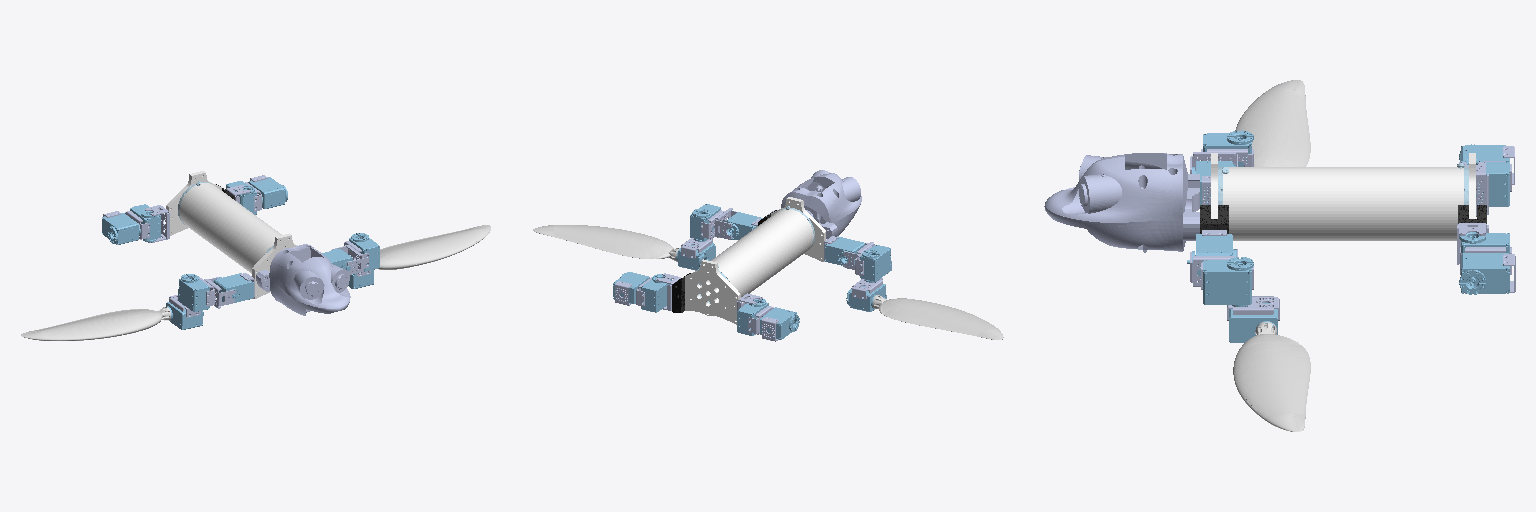
--- Facts derived from the render (not from the file) ---
3 views of the same robot in one strip: view 1: azimuth 30°, elevation 25°; view 2: azimuth 150°, elevation 25°; view 3: azimuth 270°, elevation 25° (orthographic).
Robot: onshape — 12 links, 11 joints (10 revolute, 1 fixed); root link base_link; default pose: every joint at zero.
Links seen in each view (by area): view 1: enclosure_assembly, rigid_flipper, rigid_flipper_2, right_front_link_1, left_front_link_1, right_rear_link_2, left_rear_link_2, right_rear_link_1, right_front_link_2, left_rear_link_1; view 2: enclosure_assembly, rigid_flipper_2, rigid_flipper, right_front_link_1, left_front_link_1, right_rear_link_2, left_rear_link_1, left_front_link_2, right_front_link_2, right_rear_link_1, left_rear_link_2; view 3: enclosure_assembly, rigid_flipper_2, rigid_flipper, left_front_link_1, left_rear_link_2, left_front_link_2, right_front_link_1, right_rear_link_1, left_rear_link_1, right_rear_link_2.
Link boxes in pixels (x1=…): enclosure_assembly: x1=145, y1=171, x2=353, y2=315; rigid_flipper: x1=21, y1=307, x2=170, y2=340; rigid_flipper_2: x1=374, y1=225, x2=490, y2=269; right_front_link_1: x1=178, y1=274, x2=235, y2=311; left_front_link_1: x1=332, y1=233, x2=379, y2=274; right_rear_link_2: x1=102, y1=211, x2=140, y2=244; left_rear_link_2: x1=248, y1=175, x2=287, y2=208; right_rear_link_1: x1=125, y1=204, x2=160, y2=242; right_front_link_2: x1=166, y1=295, x2=203, y2=329; left_rear_link_1: x1=226, y1=181, x2=261, y2=214; enclosure_assembly: x1=656, y1=170, x2=864, y2=324; rigid_flipper_2: x1=533, y1=225, x2=679, y2=261; rigid_flipper: x1=873, y1=295, x2=1003, y2=339; right_front_link_1: x1=843, y1=242, x2=891, y2=282; left_front_link_1: x1=690, y1=204, x2=736, y2=241; right_rear_link_2: x1=760, y1=307, x2=799, y2=341; left_rear_link_1: x1=636, y1=274, x2=671, y2=312; left_front_link_2: x1=676, y1=238, x2=715, y2=270; right_front_link_2: x1=846, y1=278, x2=886, y2=311; right_rear_link_1: x1=737, y1=299, x2=773, y2=335; left_rear_link_2: x1=613, y1=272, x2=649, y2=305; enclosure_assembly: x1=1044, y1=153, x2=1488, y2=278; rigid_flipper_2: x1=1233, y1=322, x2=1310, y2=431; rigid_flipper: x1=1235, y1=80, x2=1310, y2=166; left_front_link_1: x1=1190, y1=249, x2=1253, y2=306; left_rear_link_2: x1=1459, y1=253, x2=1515, y2=294; left_front_link_2: x1=1227, y1=296, x2=1279, y2=342; right_front_link_1: x1=1190, y1=130, x2=1253, y2=173; right_rear_link_1: x1=1461, y1=159, x2=1511, y2=206; left_rear_link_1: x1=1459, y1=232, x2=1511, y2=274; right_rear_link_2: x1=1459, y1=144, x2=1514, y2=184.
Size in the robot's own frame: 0.9755 by 0.5621 by 0.1521 metres.
43 mesh visuals loaded from 15 distinct referenced files (14 binary STL); not drawn: 2 (reference not matched to a file when rendering).

URDF robot description (onshape):
<robot name="onshape">
    <mujoco>
        <compiler discardvisual="false" meshdir="../meshes" balanceinertia="true"/>
        <option gravity="0 0 0"/>
    </mujoco>
    <link name="base_link"></link>
    <joint name="base_link_to_base" type="fixed">
        <parent link="base_link"/>
        <child link="enclosure_assembly"/>
        <origin rpy="0.0 0 0" xyz="0 0 0"/>
    </joint>
    <link name="enclosure_assembly">
        <visual>
            <origin xyz="0.069894823202513028937 0.29480474261514377776 -0.010319492083285954076"
                    rpy="1.5707963267948961139 -1.5707963267948958919 0"/>
            <geometry>
                <mesh filename="meshes/fr13-h105k.stl"/>
            </geometry>
            <material name="fr13-h105k_material">
                <color rgba="0.79607843137254896693 0.82352941176470584317 0.9372549019607843146 1.0"/>
            </material>
        </visual>
        <collision>
            <origin xyz="0.069894823202513028937 0.29480474261514377776 -0.010319492083285954076"
                    rpy="1.5707963267948961139 -1.5707963267948958919 0"/>
            <geometry>
                <mesh filename="meshes/fr13-h105k.stl"/>
            </geometry>
        </collision>
        <visual>
            <origin xyz="0.067894823202512999405 -0.013443357384856361586 -0.010319492083285943668"
                    rpy="1.570796326794896558 1.5707963267948958919 0"/>
            <geometry>
                <mesh filename="meshes/fr13-s105k.stl"/>
            </geometry>
            <material name="fr13-s105k_material">
                <color rgba="0.79607843137254896693 0.82352941176470584317 0.9372549019607843146 1.0"/>
            </material>
        </visual>
        <collision>
            <origin xyz="0.067894823202512999405 -0.013443357384856361586 -0.010319492083285943668"
                    rpy="1.570796326794896558 1.5707963267948958919 0"/>
            <geometry>
                <mesh filename="meshes/fr13-s105k.stl"/>
            </geometry>
        </collision>
        <visual>
            <origin xyz="1.2457089914179381487e-17 0.01724124261514363432 0.010314957384859463341"
                    rpy="1.57079632679489678 1.4179035300190464606e-17 1.3877787807773342003e-17"/>
            <geometry>
                <mesh filename="meshes/wte3-m-locking-flange-seal-r1-rp.stl"/>
            </geometry>
            <material name="wte3-m-locking-flange-seal-r1-rp_material">
                <color rgba="0.76862745098039220171 0.88627450980392152857 0.95294117647058818044 1.0"/>
            </material>
        </visual>
        <collision>
            <origin xyz="1.2457089914179381487e-17 0.01724124261514363432 0.010314957384859463341"
                    rpy="1.57079632679489678 1.4179035300190464606e-17 1.3877787807773342003e-17"/>
            <geometry>
                <mesh filename="meshes/wte3-m-locking-flange-seal-r1-rp.stl"/>
            </geometry>
        </collision>
        <visual>
            <origin xyz="0.11889482320251303082 -0.013443357384856332096 -0.010319492083285947137"
                    rpy="1.570796326794896558 1.5707963267948958919 0"/>
            <geometry>
                <mesh filename="meshes/xw540.n105.i101.stp.stl"/>
            </geometry>
            <material name="xw540.n105.i101.stp_material">
                <color rgba="0.61568627450980395466 0.81176470588235294379 0.92941176470588238168 1.0"/>
            </material>
        </visual>
        <collision>
            <origin xyz="0.11889482320251303082 -0.013443357384856332096 -0.010319492083285947137"
                    rpy="1.570796326794896558 1.5707963267948958919 0"/>
            <geometry>
                <mesh filename="meshes/xw540.n105.i101.stp.stl"/>
            </geometry>
        </collision>
        <visual>
            <origin xyz="-0.11889482320353667033 -0.013570357384856356758 -0.010319492083285941933"
                    rpy="1.570796326794896558 -1.570796326794896336 0"/>
            <geometry>
                <mesh filename="meshes/xw540.n105.i101.stp.stl"/>
            </geometry>
            <material name="xw540.n105.i101.stp_material">
                <color rgba="0.61568627450980395466 0.81176470588235294379 0.92941176470588238168 1.0"/>
            </material>
        </visual>
        <collision>
            <origin xyz="-0.11889482320353667033 -0.013570357384856356758 -0.010319492083285941933"
                    rpy="1.570796326794896558 -1.570796326794896336 0"/>
            <geometry>
                <mesh filename="meshes/xw540.n105.i101.stp.stl"/>
            </geometry>
        </collision>
        <visual>
            <origin xyz="2.7209355507438652099e-17 0.14024124261514361867 0.010314957384859489362"
                    rpy="1.57079632679489678 1.4179035300190464606e-17 1.3877787807773342003e-17"/>
            <geometry>
                <mesh filename="meshes/tube.stl"/>
            </geometry>
            <material name="tube_material">
                <color rgba="1 1 1 1.0"/>
            </material>
        </visual>
        <collision>
            <origin xyz="2.7209355507438652099e-17 0.14024124261514361867 0.010314957384859489362"
                    rpy="1.57079632679489678 1.4179035300190464606e-17 1.3877787807773342003e-17"/>
            <geometry>
                <mesh filename="meshes/tube.stl"/>
            </geometry>
        </collision>
        <visual>
            <origin xyz="-0.069894823203536474154 0.29467774261514367851 -0.010319492083285877748"
                    rpy="-1.570796326794896558 -1.570796326794896336 0"/>
            <geometry>
                <mesh filename="meshes/fr13-h105k.stl"/>
            </geometry>
            <material name="fr13-h105k_material">
                <color rgba="0.79607843137254896693 0.82352941176470584317 0.9372549019607843146 1.0"/>
            </material>
        </visual>
        <collision>
            <origin xyz="-0.069894823203536474154 0.29467774261514367851 -0.010319492083285877748"
                    rpy="-1.570796326794896558 -1.570796326794896336 0"/>
            <geometry>
                <mesh filename="meshes/fr13-h105k.stl"/>
            </geometry>
        </collision>
        <visual>
            <origin xyz="2.5502387607082533746e-17 0.26324124261514358913 0.010314957384859510178"
                    rpy="1.570796326794896336 -1.4179035300190464606e-17 -3.141592653589793116"/>
            <geometry>
                <mesh filename="meshes/wte3-m-locking-flange-seal-r1-rp.stl"/>
            </geometry>
            <material name="wte3-m-locking-flange-seal-r1-rp_material">
                <color rgba="0.76862745098039220171 0.88627450980392152857 0.95294117647058818044 1.0"/>
            </material>
        </visual>
        <collision>
            <origin xyz="2.5502387607082533746e-17 0.26324124261514358913 0.010314957384859510178"
                    rpy="1.570796326794896336 -1.4179035300190464606e-17 -3.141592653589793116"/>
            <geometry>
                <mesh filename="meshes/wte3-m-locking-flange-seal-r1-rp.stl"/>
            </geometry>
        </collision>
        <visual>
            <origin xyz="-0.067894823203536500134 -0.013570357384856356758 -0.010319492083285945402"
                    rpy="1.570796326794896558 -1.570796326794896336 0"/>
            <geometry>
                <mesh filename="meshes/fr13-s105k.stl"/>
            </geometry>
            <material name="fr13-s105k_material">
                <color rgba="0.79607843137254896693 0.82352941176470584317 0.9372549019607843146 1.0"/>
            </material>
        </visual>
        <collision>
            <origin xyz="-0.067894823203536500134 -0.013570357384856356758 -0.010319492083285945402"
                    rpy="1.570796326794896558 -1.570796326794896336 0"/>
            <geometry>
                <mesh filename="meshes/fr13-s105k.stl"/>
            </geometry>
        </collision>
        <visual>
            <origin xyz="-0.047933312144871995097 -0.009070357384856356231 -0.038456398802568438067"
                    rpy="1.57079632679489678 1.4179035300190461525e-17 1.3877787807773337381e-17"/>
            <geometry>
                <mesh filename="meshes/shoulder_adapter.stl"/>
            </geometry>
            <material name="shoulder_adapter_material">
                <color rgba="0.25098039215686274161 0.25098039215686274161 0.25098039215686274161 1.0"/>
            </material>
        </visual>
        <collision>
            <origin xyz="-0.047933312144871995097 -0.009070357384856356231 -0.038456398802568438067"
                    rpy="1.57079632679489678 1.4179035300190461525e-17 1.3877787807773337381e-17"/>
            <geometry>
                <mesh filename="meshes/shoulder_adapter.stl"/>
            </geometry>
        </collision>
        <visual>
            <origin xyz="-0.047933312144871995097 -0.0090068573848563360934 -0.038456398802568445006"
                    rpy="1.5707963267948972241 1.4179035300190467688e-17 -5.9793562302346936973e-17"/>
            <geometry>
                <mesh filename="meshes/shoulder_adapter.stl"/>
            </geometry>
            <material name="shoulder_adapter_material">
                <color rgba="0.10980392156862744946 0.10980392156862744946 0.10980392156862744946 1.0"/>
            </material>
        </visual>
        <collision>
            <origin xyz="-0.047933312144871995097 -0.0090068573848563360934 -0.038456398802568445006"
                    rpy="1.5707963267948972241 1.4179035300190467688e-17 -5.9793562302346936973e-17"/>
            <geometry>
                <mesh filename="meshes/shoulder_adapter.stl"/>
            </geometry>
        </collision>
        <visual>
            <origin xyz="-0.047933312144871988159 -0.0090068573848563551754 -0.038456398802568438067"
                    rpy="1.57079632679489678 1.4179035300190464606e-17 1.3877787807773342003e-17"/>
            <geometry>
                <mesh filename="meshes/enclosure_plate.stl"/>
            </geometry>
            <material name="enclosure_plate_material">
                <color rgba="1 1 1 1.0"/>
            </material>
        </visual>
        <collision>
            <origin xyz="-0.047933312144871988159 -0.0090068573848563551754 -0.038456398802568438067"
                    rpy="1.57079632679489678 1.4179035300190464606e-17 1.3877787807773342003e-17"/>
            <geometry>
                <mesh filename="meshes/enclosure_plate.stl"/>
            </geometry>
        </collision>
        <visual>
            <origin xyz="2.9384240013913407991e-16 -0.0406033573848563617 0.010314957384859442524"
                    rpy="1.57079632679489678 1.4179035300190464606e-17 1.3877787807773340462e-17"/>
            <geometry>
                <mesh filename="meshes/head_bottom.stl"/>
            </geometry>
            <material name="head_bottom_material">
                <color rgba="0.79607843137254896693 0.82352941176470584317 0.9372549019607843146 1.0"/>
            </material>
        </visual>
        <collision>
            <origin xyz="2.9384240013913407991e-16 -0.0406033573848563617 0.010314957384859442524"
                    rpy="1.57079632679489678 1.4179035300190464606e-17 1.3877787807773340462e-17"/>
            <geometry>
                <mesh filename="meshes/head_bottom.stl"/>
            </geometry>
        </collision>
        <visual>
            <origin xyz="2.9384240013913407991e-16 -0.040603357384856375578 0.010314957384859439055"
                    rpy="1.57079632679489678 1.4179035300190464606e-17 1.3877787807773340462e-17"/>
            <geometry>
                <mesh filename="meshes/head_top.stl"/>
            </geometry>
            <material name="head_top_material">
                <color rgba="0.79607843137254896693 0.82352941176470584317 0.9372549019607843146 1.0"/>
            </material>
        </visual>
        <collision>
            <origin xyz="2.9384240013913407991e-16 -0.040603357384856375578 0.010314957384859439055"
                    rpy="1.57079632679489678 1.4179035300190464606e-17 1.3877787807773340462e-17"/>
            <geometry>
                <mesh filename="meshes/head_top.stl"/>
            </geometry>
        </collision>
        <visual>
            <origin xyz="-0.04793331214487198122 0.29917774261514373801 -0.038456398802568389494"
                    rpy="1.57079632679489678 1.4179035300190461525e-17 1.3877787807773337381e-17"/>
            <geometry>
                <mesh filename="meshes/shoulder_adapter.stl"/>
            </geometry>
            <material name="shoulder_adapter_material">
                <color rgba="0.25098039215686274161 0.25098039215686274161 0.25098039215686274161 1.0"/>
            </material>
        </visual>
        <collision>
            <origin xyz="-0.04793331214487198122 0.29917774261514373801 -0.038456398802568389494"
                    rpy="1.57079632679489678 1.4179035300190461525e-17 1.3877787807773337381e-17"/>
            <geometry>
                <mesh filename="meshes/shoulder_adapter.stl"/>
            </geometry>
        </collision>
        <visual>
            <origin xyz="-0.04793331214487198122 0.29924124261514373213 -0.038456398802568389494"
                    rpy="1.5707963267948972241 1.4179035300190467688e-17 -5.9793562302346936973e-17"/>
            <geometry>
                <mesh filename="meshes/shoulder_adapter.stl"/>
            </geometry>
            <material name="shoulder_adapter_material">
                <color rgba="0.10980392156862744946 0.10980392156862744946 0.10980392156862744946 1.0"/>
            </material>
        </visual>
        <collision>
            <origin xyz="-0.04793331214487198122 0.29924124261514373213 -0.038456398802568389494"
                    rpy="1.5707963267948972241 1.4179035300190467688e-17 -5.9793562302346936973e-17"/>
            <geometry>
                <mesh filename="meshes/shoulder_adapter.stl"/>
            </geometry>
        </collision>
        <visual>
            <origin xyz="-0.04793331214487198122 0.29924124261514367662 -0.038456398802568375617"
                    rpy="1.57079632679489678 1.4179035300190464606e-17 1.3877787807773342003e-17"/>
            <geometry>
                <mesh filename="meshes/enclosure_plate.stl"/>
            </geometry>
            <material name="enclosure_plate_material">
                <color rgba="1 1 1 1.0"/>
            </material>
        </visual>
        <collision>
            <origin xyz="-0.04793331214487198122 0.29924124261514367662 -0.038456398802568375617"
                    rpy="1.57079632679489678 1.4179035300190464606e-17 1.3877787807773342003e-17"/>
            <geometry>
                <mesh filename="meshes/enclosure_plate.stl"/>
            </geometry>
        </collision>
        <visual>
            <origin xyz="-0.026710281898386943611 -0.1454799077985637068 0.03570296254706342709"
                    rpy="1.3089968257464532631 -1.5707963267948958919 0"/>
            <geometry>
                <mesh filename="meshes/explorehd_2.0_public.step-1-solid1.stl"/>
            </geometry>
            <material name="explorehd_2.0_public.step-1-solid1_material">
                <color rgba="0.79607843137254896693 0.82352941176470584317 0.9372549019607843146 1.0"/>
            </material>
        </visual>
        <collision>
            <origin xyz="-0.026710281898386943611 -0.1454799077985637068 0.03570296254706342709"
                    rpy="1.3089968257464532631 -1.5707963267948958919 0"/>
            <geometry>
                <mesh filename="meshes/explorehd_2.0_public.step-1-solid1.stl"/>
            </geometry>
        </collision>
        <visual>
            <origin xyz="-0.020812504507452943281 -0.14625636526204230381 0.035363957384859458222"
                    rpy="1.570796326794896558 1.5707963267948956698 0"/>
            <geometry>
                <mesh filename="meshes/92467a452_18-8_stainless_steel_extra-wide_truss_head_phillips_screws.step-2-solid1.stl"/>
            </geometry>
            <material
                    name="92467a452_18-8_stainless_steel_extra-wide_truss_head_phillips_screws.step-2-solid1_material">
                <color rgba="0.79607843137254896693 0.82352941176470584317 0.9372549019607843146 1.0"/>
            </material>
        </visual>
        <collision>
            <origin xyz="-0.020812504507452943281 -0.14625636526204230381 0.035363957384859458222"
                    rpy="1.570796326794896558 1.5707963267948956698 0"/>
            <geometry>
                <mesh filename="meshes/92467a452_18-8_stainless_steel_extra-wide_truss_head_phillips_screws.step-2-solid1.stl"/>
            </geometry>
        </collision>
        <visual>
            <origin xyz="-0.026710281898386943611 -0.14547990779856351251 0.035702962547063656074"
                    rpy="1.3089968257464532631 -1.5707963267948956698 0"/>
            <geometry>
                <mesh filename="meshes/explorehd_2.0_case_public.step-1_standoff_and_washer_v4_(1).step-1-solid1.stl"/>
            </geometry>
            <material name="explorehd_2.0_case_public.step-1/standoff_and_washer_v4_(1).step-1-solid1_material">
                <color rgba="0.79607843137254896693 0.82352941176470584317 0.9372549019607843146 1.0"/>
            </material>
        </visual>
        <collision>
            <origin xyz="-0.026710281898386943611 -0.14547990779856351251 0.035702962547063656074"
                    rpy="1.3089968257464532631 -1.5707963267948956698 0"/>
            <geometry>
                <mesh filename="meshes/explorehd_2.0_case_public.step-1_standoff_and_washer_v4_(1).step-1-solid1.stl"/>
            </geometry>
        </collision>
        <visual>
            <origin xyz="0.020914727116519558903 -0.14703282272552137266 0.035702962547063461785"
                    rpy="1.832595827843340075 -1.5707963267948958919 0"/>
            <geometry>
                <mesh filename="meshes/explorehd_2.0_public.step-1-solid1.stl"/>
            </geometry>
            <material name="explorehd_2.0_public.step-1-solid1_material">
                <color rgba="0.79607843137254896693 0.82352941176470584317 0.9372549019607843146 1.0"/>
            </material>
        </visual>
        <collision>
            <origin xyz="0.020914727116519558903 -0.14703282272552137266 0.035702962547063461785"
                    rpy="1.832595827843340075 -1.5707963267948958919 0"/>
            <geometry>
                <mesh filename="meshes/explorehd_2.0_public.step-1-solid1.stl"/>
            </geometry>
        </collision>
        <visual>
            <origin xyz="0.026812504507453642499 -0.14625636526204230381 0.035363957384859458222"
                    rpy="1.570796326794896558 1.5707963267948956698 0"/>
            <geometry>
                <mesh filename="meshes/92467a452_18-8_stainless_steel_extra-wide_truss_head_phillips_screws.step-2-solid1.stl"/>
            </geometry>
            <material
                    name="92467a452_18-8_stainless_steel_extra-wide_truss_head_phillips_screws.step-2-solid1_material">
                <color rgba="0.79607843137254896693 0.82352941176470584317 0.9372549019607843146 1.0"/>
            </material>
        </visual>
        <collision>
            <origin xyz="0.026812504507453642499 -0.14625636526204230381 0.035363957384859458222"
                    rpy="1.570796326794896558 1.5707963267948956698 0"/>
            <geometry>
                <mesh filename="meshes/92467a452_18-8_stainless_steel_extra-wide_truss_head_phillips_screws.step-2-solid1.stl"/>
            </geometry>
        </collision>
        <visual>
            <origin xyz="0.020914727116519503392 -0.14703282272552120613 0.03570296254706367689"
                    rpy="1.832595827843340075 -1.5707963267948956698 0"/>
            <geometry>
                <mesh filename="meshes/explorehd_2.0_case_public.step-1_standoff_and_washer_v4_(1).step-1-solid1.stl"/>
            </geometry>
            <material name="explorehd_2.0_case_public.step-1/standoff_and_washer_v4_(1).step-1-solid1_material">
                <color rgba="0.79607843137254896693 0.82352941176470584317 0.9372549019607843146 1.0"/>
            </material>
        </visual>
        <collision>
            <origin xyz="0.020914727116519503392 -0.14703282272552120613 0.03570296254706367689"
                    rpy="1.832595827843340075 -1.5707963267948956698 0"/>
            <geometry>
                <mesh filename="meshes/explorehd_2.0_case_public.step-1_standoff_and_washer_v4_(1).step-1-solid1.stl"/>
            </geometry>
        </collision>
        <inertial>
            <origin xyz="4.1435743363322676173e-07 0.084475575081515694165 0.0069731387364608873186" rpy="0 0 0"/>
            <mass value="2.9553047122120741363"/>
            <inertia ixx="0.061042834427142159126" ixy="-2.0694784858406268732e-06" ixz="-3.5724982403397454074e-08"
                     iyy="0.0094178638007044821606" iyz="0.00016294589614341051503" izz="0.066158015901618807963"/>
        </inertial>
    </link>

    <link name="right_front_link_1">
        <visual>
            <origin xyz="0.032000000000000097811 -2.2551405187698492227e-17 0.042000000000000030365"
                    rpy="1.570796326794896558 1.570796326794896336 0"/>
            <geometry>
                <mesh filename="meshes/fr13-s106k.stl"/>
            </geometry>
            <material name="fr13-s106k_material">
                <color rgba="0.79607843137254896693 0.82352941176470584317 0.9372549019607843146 1.0"/>
            </material>
        </visual>
        <collision>
            <origin xyz="0.032000000000000097811 -2.2551405187698492227e-17 0.042000000000000030365"
                    rpy="1.570796326794896558 1.570796326794896336 0"/>
            <geometry>
                <mesh filename="meshes/fr13-s106k.stl"/>
            </geometry>
        </collision>
        <visual>
            <origin xyz="0.029999999999999985012 -3.4694469519536141888e-18 0.026499999999999995781"
                    rpy="-1.570796326794896558 -1.570796326794896558 0"/>
            <geometry>
                <mesh filename="meshes/fr13-h105k.stl"/>
            </geometry>
            <material name="fr13-h105k_material">
                <color rgba="0.79607843137254896693 0.82352941176470584317 0.9372549019607843146 1.0"/>
            </material>
        </visual>
        <collision>
            <origin xyz="0.029999999999999985012 -3.4694469519536141888e-18 0.026499999999999995781"
                    rpy="-1.570796326794896558 -1.570796326794896558 0"/>
            <geometry>
                <mesh filename="meshes/fr13-h105k.stl"/>
            </geometry>
        </collision>
        <visual>
            <origin xyz="0.058000000000000037637 8.6736173798840354721e-18 0.057500000000000106581"
                    rpy="1.570796326794896336 -2.693587736804898666e-24 -4.2327252813834127616e-16"/>
            <geometry>
                <mesh filename="meshes/xw540.n105.i101.stp.stl"/>
            </geometry>
            <material name="xw540.n105.i101.stp_material">
                <color rgba="0.61568627450980395466 0.81176470588235294379 0.92941176470588238168 1.0"/>
            </material>
        </visual>
        <collision>
            <origin xyz="0.058000000000000037637 8.6736173798840354721e-18 0.057500000000000106581"
                    rpy="1.570796326794896336 -2.693587736804898666e-24 -4.2327252813834127616e-16"/>
            <geometry>
                <mesh filename="meshes/xw540.n105.i101.stp.stl"/>
            </geometry>
        </collision>
        <inertial>
            <origin xyz="0.053506049593864790648 -0.00012798970313840241238 0.041309178718401860786" rpy="0 0 0"/>
            <mass value="0.23765309404962933759"/>
            <inertia ixx="0.0001197601833361052815" ixy="1.3669315868615371237e-07" ixz="-9.1950112817160069046e-06"
                     iyy="0.00012572203867313119872" iyz="4.9175977519764273247e-07" izz="8.8732448708732337365e-05"/>
        </inertial>
    </link>

    <link name="right_front_link_2">
        <visual>
            <origin xyz="-0.01549999999999999295 2.7755575615628913511e-17 0"
                    rpy="-1.570796326794896558 -0 -2.3111159332646830237e-32"/>
            <geometry>
                <mesh filename="meshes/fr13-s106k.stl"/>
            </geometry>
            <material name="fr13-s106k_material">
                <color rgba="0.79607843137254896693 0.82352941176470584317 0.9372549019607843146 1.0"/>
            </material>
        </visual>
        <collision>
            <origin xyz="-0.01549999999999999295 2.7755575615628913511e-17 0"
                    rpy="-1.570796326794896558 -0 -2.3111159332646830237e-32"/>
            <geometry>
                <mesh filename="meshes/fr13-s106k.stl"/>
            </geometry>
        </collision>
        <visual>
            <origin xyz="-0.031000000000000096922 -2.7755575615628913511e-17 -0.025999999999999863498"
                    rpy="1.570796326794896558 -1.570796326794896558 0"/>
            <geometry>
                <mesh filename="meshes/xw540.n105.i101.stp.stl"/>
            </geometry>
            <material name="xw540.n105.i101.stp_material">
                <color rgba="0.61568627450980395466 0.81176470588235294379 0.92941176470588238168 1.0"/>
            </material>
        </visual>
        <collision>
            <origin xyz="-0.031000000000000096922 -2.7755575615628913511e-17 -0.025999999999999863498"
                    rpy="1.570796326794896558 -1.570796326794896558 0"/>
            <geometry>
                <mesh filename="meshes/xw540.n105.i101.stp.stl"/>
            </geometry>
        </collision>
        <inertial>
            <origin xyz="-0.016101673005059574662 -0.00013995662800101392985 -0.024253576994100387726" rpy="0 0 0"/>
            <mass value="0.21733267935778124991"/>
            <inertia ixx="6.4918636413437510622e-05" ixy="-4.4909670188136649e-07" ixz="-2.2836787309400386181e-07"
                     iyy="9.1336723727688314423e-05" iyz="-5.3121208937074928327e-08" izz="0.00010342610076693713466"/>
        </inertial>
    </link>

    <link name="rigid_flipper">
        <visual>
            <origin xyz="-0.0055304483284662822595 -4.8572257327350598644e-16 -0.057140122083317562707"
                    rpy="-1.570796326794896558 -0.087266462599716904114 -4.3533745945941733344e-19"/>
            <geometry>
                <mesh filename="meshes/front_flipper_straight.stl"/>
            </geometry>
            <material name="rigid_flipper_material">
                <color rgba="0.90196078431372550543 0.90196078431372550543 0.90196078431372550543 1.0"/>
            </material>
        </visual>
        <collision>
            <origin xyz="-0.0055304483284662822595 -4.8572257327350598644e-16 -0.057140122083317562707"
                    rpy="-1.570796326794896558 -0.087266462599716904114 -4.3533745945941733344e-19"/>
            <geometry>
                <mesh filename="meshes/front_flipper_straight.stl"/>
            </geometry>
        </collision>
        <inertial>
            <origin xyz="-0.0044251698858467575573 9.8208499228312341029e-05 -0.12751828658569058783" rpy="0 0 0"/>
            <mass value="0.45000000037898496563"/>
            <inertia ixx="0.0017657185749879033155" ixy="3.8778617118469599469e-09" ixz="-0.00012015546573640090611"
                     iyy="0.0019141236431911706761" iyz="9.5853134441607854423e-08" izz="0.00017460332900431278867"/>
        </inertial>
    </link>

    <joint name="shoulderR3" type="revolute">
        <origin xyz="-0.031000000000000096922 -0.02649999999999994027 -0.02599999999999984962"
                rpy="-1.570796326794896336 3.3168147817035548656e-16 -1.7063002176520613192e-15"/>
        <parent link="right_front_link_2"/>
        <child link="rigid_flipper"/>
        <axis xyz="0 0 1"/>
        <limit effort="1" velocity="20"/>
        <joint_properties friction="0.0"/>
    </joint>

    <joint name="shoulderR2" type="revolute">
        <origin xyz="0.058000000000000009881 -0.026499999999999968026 0.057500000000000092704"
                rpy="-1.570796326794896336 1.5707963267948961139 0"/>
        <parent link="right_front_link_1"/>
        <child link="right_front_link_2"/>
        <axis xyz="0 0 1"/>
        <limit effort="1" velocity="20"/>
        <joint_properties friction="0.0"/>
    </joint>

    <joint name="shoulderR1" type="revolute">
        <origin xyz="-0.11889482320353668421 -0.040070357384856446215 -0.010319492083285957545"
                rpy="1.570796326794896558 -0.024747819362712419888 -3.141592653589793116"/>
        <parent link="enclosure_assembly"/>
        <child link="right_front_link_1"/>
        <axis xyz="0 0 1"/>
        <limit effort="1" velocity="20"/>
        <joint_properties friction="0.0"/>
    </joint>

    <link name="left_front_link_1">
        <visual>
            <origin xyz="0.058000000000000551115 1.2143064331837649661e-17 -0.0045000000000001948164"
                    rpy="-1.570796326794896558 5.5511151231098433977e-17 3.141592653589793116"/>
            <geometry>
                <mesh filename="meshes/xw540.n105.i101.stp.stl"/>
            </geometry>
            <material name="xw540.n105.i101.stp_material">
                <color rgba="0.61568627450980395466 0.81176470588235294379 0.92941176470588238168 1.0"/>
            </material>
        </visual>
        <collision>
            <origin xyz="0.058000000000000551115 1.2143064331837649661e-17 -0.0045000000000001948164"
                    rpy="-1.570796326794896558 5.5511151231098433977e-17 3.141592653589793116"/>
            <geometry>
                <mesh filename="meshes/xw540.n105.i101.stp.stl"/>
            </geometry>
        </collision>
        <visual>
            <origin xyz="0.032000000000000028422 2.7755575615628913511e-17 0.010999999999999903952"
                    rpy="1.570796326794896558 1.570796326794896558 0"/>
            <geometry>
                <mesh filename="meshes/fr13-s106k.stl"/>
            </geometry>
            <material name="fr13-s106k_material">
                <color rgba="0.79607843137254896693 0.82352941176470584317 0.9372549019607843146 1.0"/>
            </material>
        </visual>
        <collision>
            <origin xyz="0.032000000000000028422 2.7755575615628913511e-17 0.010999999999999903952"
                    rpy="1.570796326794896558 1.570796326794896558 0"/>
            <geometry>
                <mesh filename="meshes/fr13-s106k.stl"/>
            </geometry>
        </collision>
        <visual>
            <origin xyz="0.02999999999999999889 0 0.02650000000000000272"
                    rpy="1.570796326794896558 1.570796326794896558 0"/>
            <geometry>
                <mesh filename="meshes/fr13-h105k.stl"/>
            </geometry>
            <material name="fr13-h105k_material">
                <color rgba="0.79607843137254896693 0.82352941176470584317 0.9372549019607843146 1.0"/>
            </material>
        </visual>
        <collision>
            <origin xyz="0.02999999999999999889 0 0.02650000000000000272"
                    rpy="1.570796326794896558 1.570796326794896558 0"/>
            <geometry>
                <mesh filename="meshes/fr13-h105k.stl"/>
            </geometry>
        </collision>
        <inertial>
            <origin xyz="0.053506049593750534821 -0.00012798970313839455192 0.011690821281598155063" rpy="0 0 0"/>
            <mass value="0.23765309404962933759"/>
            <inertia ixx="0.00011976018333610899489" ixy="1.3669315913792217586e-07" ixz="9.1950112843162184816e-06"
                     iyy="0.00012572203867288904216" iyz="-4.8841069312510823856e-07" izz="8.8732448708489150817e-05"/>
        </inertial>
    </link>

    <link name="left_front_link_2">
        <visual>
            <origin xyz="0.031000000000000332845 2.498001805406602216e-16 -0.025999999999999592881"
                    rpy="1.570796326794896558 1.570796326794896558 0"/>
            <geometry>
                <mesh filename="meshes/xw540.n105.i101.stp.stl"/>
            </geometry>
            <material name="xw540.n105.i101.stp_material">
                <color rgba="0.61568627450980395466 0.81176470588235294379 0.92941176470588238168 1.0"/>
            </material>
        </visual>
        <collision>
            <origin xyz="0.031000000000000332845 2.498001805406602216e-16 -0.025999999999999592881"
                    rpy="1.570796326794896558 1.570796326794896558 0"/>
            <geometry>
                <mesh filename="meshes/xw540.n105.i101.stp.stl"/>
            </geometry>
        </collision>
        <visual>
            <origin xyz="0.015499999999999999889 0 0" rpy="-1.570796326794896558 -0 7.6084727776971584431e-34"/>
            <geometry>
                <mesh filename="meshes/fr13-s106k.stl"/>
            </geometry>
            <material name="fr13-s106k_material">
                <color rgba="0.79607843137254896693 0.82352941176470584317 0.9372549019607843146 1.0"/>
            </material>
        </visual>
        <collision>
            <origin xyz="0.015499999999999999889 0 0" rpy="-1.570796326794896558 -0 7.6084727776971584431e-34"/>
            <geometry>
                <mesh filename="meshes/fr13-s106k.stl"/>
            </geometry>
        </collision>
        <inertial>
            <origin xyz="0.016101673005060018751 -0.00013995662800075675709 -0.024253576994225530677" rpy="0 0 0"/>
            <mass value="0.21733267935778124991"/>
            <inertia ixx="6.4918636413530643589e-05" ixy="4.5244578395383825052e-07" ixz="2.2836787045883843784e-07"
                     iyy="9.1336723727779739771e-05" iyz="-5.3121208484951961696e-08" izz="0.00010342610076693278429"/>
        </inertial>
    </link>

    <link name="rigid_flipper_2">
        <visual>
            <origin xyz="-0.0055304483284662891984 -5.1347814888913489995e-16 -0.057140122083317090862"
                    rpy="-1.570796326794896558 -0.087266462599716904114 9.8984278215406751188e-32"/>
            <geometry>
                <mesh filename="meshes/front_flipper_straight.stl"/>
            </geometry>
            <material name="rigid_flipper_material">
                <color rgba="0.90196078431372550543 0.90196078431372550543 0.90196078431372550543 1.0"/>
            </material>
        </visual>
        <collision>
            <origin xyz="-0.0055304483284662891984 -5.1347814888913489995e-16 -0.057140122083317090862"
                    rpy="-1.570796326794896558 -0.087266462599716904114 9.8984278215406751188e-32"/>
            <geometry>
                <mesh filename="meshes/front_flipper_straight.stl"/>
            </geometry>
        </collision>
        <inertial>
            <origin xyz="-0.0044251698858467636288 9.8208499228284097562e-05 -0.12751828658569011599" rpy="0 0 0"/>
            <mass value="0.45000000037898496563"/>
            <inertia ixx="0.0017657185749879033155" ixy="3.877861711845820092e-09" ixz="-0.00012015546573640090611"
                     iyy="0.0019141236431911706761" iyz="9.5853134441615623303e-08" izz="0.00017460332900431278867"/>
        </inertial>
    </link>

    <joint name="shoulderL3" type="revolute">
        <origin xyz="0.031000000000000346723 -0.02649999999999899658 -0.025999999999999592881"
                rpy="1.57079632679489678 -1.1788540152396787534e-27 3.141592653589793116"/>
        <parent link="left_front_link_2"/>
        <child link="rigid_flipper_2"/>
        <axis xyz="0 0 1"/>
        <limit effort="1" velocity="20"/>
        <joint_properties friction="0.0"/>
    </joint>

    <joint name="shoulderL2" type="revolute">
        <origin xyz="0.058000000000000551115 -0.02650000000000025599 -0.0045000000000001739997"
                rpy="-1.570796326794896558 1.570796326794896558 0"/>
        <parent link="left_front_link_1"/>
        <child link="left_front_link_2"/>
        <axis xyz="0 0 1"/>
        <limit effort="1" velocity="20"/>
        <joint_properties friction="0.0"/>
    </joint>

    <joint name="shoulderL1" type="revolute">
        <origin xyz="0.1188948232025135443 0.012956642615143504696 -0.010319492083285928055"
                rpy="1.5707963267948972241 2.0061271302034394322e-16 1.3877787807767273012e-17"/>
        <parent link="enclosure_assembly"/>
        <child link="left_front_link_1"/>
        <axis xyz="0 0 1"/>
        <limit effort="1" velocity="20"/>
        <joint_properties friction="0.0"/>
    </joint>

    <link name="right_rear_link_1">
        <visual>
            <origin xyz="0 0 -0.026399999999999999856" rpy="3.141592653589793116 -0 -5.21020655579469012e-33"/>
            <geometry>
                <mesh filename="meshes/xw540.n105.i101.stp.stl"/>
            </geometry>
            <material name="xw540.n105.i101.stp_material">
                <color rgba="0.61568627450980395466 0.81176470588235294379 0.92941176470588238168 1.0"/>
            </material>
        </visual>
        <collision>
            <origin xyz="0 0 -0.026399999999999999856" rpy="3.141592653589793116 -0 -5.21020655579469012e-33"/>
            <geometry>
                <mesh filename="meshes/xw540.n105.i101.stp.stl"/>
            </geometry>
        </collision>
        <visual>
            <origin xyz="-0.026000000000000314526 0.015500000000000457856 -0.026400000000000124756"
                    rpy="-3.141592653589793116 1.2325951644078103644e-31 1.570796326794896336"/>
            <geometry>
                <mesh filename="meshes/fr13-s106k.stl"/>
            </geometry>
            <material name="fr13-s106k_material">
                <color rgba="0.79607843137254896693 0.82352941176470584317 0.9372549019607843146 1.0"/>
            </material>
        </visual>
        <collision>
            <origin xyz="-0.026000000000000314526 0.015500000000000457856 -0.026400000000000124756"
                    rpy="-3.141592653589793116 1.2325951644078103644e-31 1.570796326794896336"/>
            <geometry>
                <mesh filename="meshes/fr13-s106k.stl"/>
            </geometry>
        </collision>
        <inertial>
            <origin xyz="-0.0017464230057741114265 0.014898326994940661039 -0.026539956628001001859" rpy="0 0 0"/>
            <mass value="0.21733267935778124991"/>
            <inertia ixx="0.00010342610076694004845" ixy="2.2836787045875344337e-07" ixz="5.3121208484983930573e-08"
                     iyy="6.4918636413533896195e-05" iyz="-4.5244578395387964926e-07" izz="9.1336723727784578024e-05"/>
        </inertial>
    </link>

    <link name="right_rear_link_2">
        <visual>
            <origin xyz="-1.7347234759768070944e-18 -5.5511151231257827021e-17 -0.026499999999999995781"
                    rpy="6.162975822039116413e-33 -0 0"/>
            <geometry>
                <mesh filename="meshes/xw540.n105.i101.stp.stl"/>
            </geometry>
            <material name="xw540.n105.i101.stp_material">
                <color rgba="0.61568627450980395466 0.81176470588235294379 0.92941176470588238168 1.0"/>
            </material>
        </visual>
        <collision>
            <origin xyz="-1.7347234759768070944e-18 -5.5511151231257827021e-17 -0.026499999999999995781"
                    rpy="6.162975822039116413e-33 -0 0"/>
            <geometry>
                <mesh filename="meshes/xw540.n105.i101.stp.stl"/>
            </geometry>
        </collision>
        <visual>
            <origin xyz="-3.8163916471489756077e-17 -0.076078609753962300744 -0.029918400788916443833"
                    rpy="-2.6950666385799572288e-16 -0.70607843085865351629 1.570796326794896558"/>
            <geometry>
                <mesh filename="meshes/rear_flipper.stl"/>
            </geometry>
            <material name="rear_flipper_material">
                <color rgba="0.76862745098039220171 0.88627450980392152857 0.95294117647058818044 1.0"/>
            </material>
        </visual>
        <collision>
            <origin xyz="-3.8163916471489756077e-17 -0.076078609753962300744 -0.029918400788916443833"
                    rpy="-2.6950666385799572288e-16 -0.70607843085865351629 1.570796326794896558"/>
            <geometry>
                <mesh filename="meshes/rear_flipper.stl"/>
            </geometry>
        </collision>
        <visual>
            <origin xyz="-1.7347234759768070944e-18 -0.051000000000000045297 -0.026499999999999995781"
                    rpy="1.6653345369377355502e-16 -0 0"/>
            <geometry>
                <mesh filename="meshes/fr13-s105k.stl"/>
            </geometry>
            <material name="fr13-s105k_material">
                <color rgba="0.79607843137254896693 0.82352941176470584317 0.9372549019607843146 1.0"/>
            </material>
        </visual>
        <collision>
            <origin xyz="-1.7347234759768070944e-18 -0.051000000000000045297 -0.026499999999999995781"
                    rpy="1.6653345369377355502e-16 -0 0"/>
            <geometry>
                <mesh filename="meshes/fr13-s105k.stl"/>
            </geometry>
        </collision>
        <inertial>
            <origin xyz="-1.4543076731165039624e-07 -0.058528945898489018185 -0.022109379305518803149" rpy="0 0 0"/>
            <mass value="0.37872549359169516148"/>
            <inertia ixx="0.0011478951582088120584" ixy="-5.3727660966578406811e-09" ixz="-1.9957224760609825652e-09"
                     iyy="0.00012584810123618598416" iyz="8.3859902421649571e-05" izz="0.0010750923540025912779"/>
        </inertial>
    </link>

    <joint name="hipR2" type="revolute">
        <origin xyz="-0.026000000000000314526 2.2204460492503130808e-16 -0.026400000000000124756"
                rpy="-3.141592653589793116 -1.570796326794896558 0"/>
        <parent link="right_rear_link_1"/>
        <child link="right_rear_link_2"/>
        <axis xyz="0 0 1"/>
        <limit effort="1" velocity="20"/>
        <joint_properties friction="0.0"/>
    </joint>

    <joint name="hipR1" type="revolute">
        <origin xyz="-0.099894823203536473044 0.29467774261514367851 0.016180507916713764149"
                rpy="1.6653345369377350572e-16 -1.1674349087908804224e-16 -9.714451465474372182e-17"/>
        <parent link="enclosure_assembly"/>
        <child link="right_rear_link_1"/>
        <axis xyz="0 0 1"/>
        <limit effort="1" velocity="20"/>
        <joint_properties friction="0.0"/>
    </joint>

    <link name="left_rear_link_1">
        <visual>
            <origin xyz="0.025999999999999953704 0.0155000000000001803 -0.026399999999999985978"
                    rpy="-6.4711246131410971396e-32 -0 1.570796326794896558"/>
            <geometry>
                <mesh filename="meshes/fr13-s106k.stl"/>
            </geometry>
            <material name="fr13-s106k_material">
                <color rgba="0.79607843137254896693 0.82352941176470584317 0.9372549019607843146 1.0"/>
            </material>
        </visual>
        <collision>
            <origin xyz="0.025999999999999953704 0.0155000000000001803 -0.026399999999999985978"
                    rpy="-6.4711246131410971396e-32 -0 1.570796326794896558"/>
            <geometry>
                <mesh filename="meshes/fr13-s106k.stl"/>
            </geometry>
        </collision>
        <visual>
            <origin xyz="0 0 -0.026399999999999999856" rpy="3.141592653589793116 -0 -6.6890380429462890787e-35"/>
            <geometry>
                <mesh filename="meshes/xw540.n105.i101.stp.stl"/>
            </geometry>
            <material name="xw540.n105.i101.stp_material">
                <color rgba="0.61568627450980395466 0.81176470588235294379 0.92941176470588238168 1.0"/>
            </material>
        </visual>
        <collision>
            <origin xyz="0 0 -0.026399999999999999856" rpy="3.141592653589793116 -0 -6.6890380429462890787e-35"/>
            <geometry>
                <mesh filename="meshes/xw540.n105.i101.stp.stl"/>
            </geometry>
        </collision>
        <inertial>
            <origin xyz="0.0017464230058994874815 0.014898326994940638487 -0.026539956628000987982" rpy="0 0 0"/>
            <mass value="0.21733267935778124991"/>
            <inertia ixx="0.00010342610076693962832" ixy="-2.2836787309398970048e-07" ixz="-5.3121208937085800789e-08"
                     iyy="6.4918636413438445746e-05" iyz="-4.4909670188133467332e-07" izz="9.1336723727688978497e-05"/>
        </inertial>
    </link>

    <link name="left_rear_link_2">
        <visual>
            <origin xyz="-1.7347234759768070944e-18 -0.050999999999999934275 -0.026499999999999995781"
                    rpy="-4.2710307956740333408e-32 -0 0"/>
            <geometry>
                <mesh filename="meshes/fr13-s105k.stl"/>
            </geometry>
            <material name="fr13-s105k_material">
                <color rgba="0.79607843137254896693 0.82352941176470584317 0.9372549019607843146 1.0"/>
            </material>
        </visual>
        <collision>
            <origin xyz="-1.7347234759768070944e-18 -0.050999999999999934275 -0.026499999999999995781"
                    rpy="-4.2710307956740333408e-32 -0 0"/>
            <geometry>
                <mesh filename="meshes/fr13-s105k.stl"/>
            </geometry>
        </collision>
        <visual>
            <origin xyz="0 0 -0.026499999999999995781" rpy="6.5934986195729030618e-33 -0 0"/>
            <geometry>
                <mesh filename="meshes/xw540.n105.i101.stp.stl"/>
            </geometry>
            <material name="xw540.n105.i101.stp_material">
                <color rgba="0.61568627450980395466 0.81176470588235294379 0.92941176470588238168 1.0"/>
            </material>
        </visual>
        <collision>
            <origin xyz="0 0 -0.026499999999999995781" rpy="6.5934986195729030618e-33 -0 0"/>
            <geometry>
                <mesh filename="meshes/xw540.n105.i101.stp.stl"/>
            </geometry>
        </collision>
        <visual>
            <origin xyz="-1.9081958235744878039e-17 -0.076078609753962300744 -0.029918400788916332811"
                    rpy="-3.4800536822435545772e-16 -0.70607843085865362731 1.570796326794896336"/>
            <geometry>
                <mesh filename="meshes/rear_flipper.stl"/>
            </geometry>
            <material name="rear_flipper_material">
                <color rgba="0.76862745098039220171 0.88627450980392152857 0.95294117647058818044 1.0"/>
            </material>
        </visual>
        <collision>
            <origin xyz="-1.9081958235744878039e-17 -0.076078609753962300744 -0.029918400788916332811"
                    rpy="-3.4800536822435545772e-16 -0.70607843085865362731 1.570796326794896336"/>
            <geometry>
                <mesh filename="meshes/rear_flipper.stl"/>
            </geometry>
        </collision>
        <inertial>
            <origin xyz="-1.4543076730672857895e-07 -0.058528945898489004307 -0.02210937930551873723" rpy="0 0 0"/>
            <mass value="0.37872549359169516148"/>
            <inertia ixx="0.00114789515820881401" ixy="-5.3727660966505879614e-09" ixz="-1.9957224760651267401e-09"
                     iyy="0.00012584810123618649915" iyz="8.3859902421650953357e-05" izz="0.0010750923540025940969"/>
        </inertial>
    </link>

    <joint name="hipL2" type="revolute">
        <origin xyz="0.025999999999999925948 1.1102230246251565404e-16 -0.026399999999999985978"
                rpy="-3.141592653589793116 1.5707963267948961139 0"/>
        <parent link="left_rear_link_1"/>
        <child link="left_rear_link_2"/>
        <axis xyz="0 0 1"/>
        <limit effort="1" velocity="20"/>
        <joint_properties friction="0.0"/>
    </joint>

    <joint name="hipL1" type="revolute">
        <origin xyz="0.099894823202513263749 0.29480474261514355572 0.016180507916714232525"
                rpy="2.2204460492503697802e-16 1.4179035300190896014e-17 1.387778780781382351e-17"/>
        <parent link="enclosure_assembly"/>
        <child link="left_rear_link_1"/>
        <axis xyz="0 0 1"/>
        <limit effort="1" velocity="20"/>
        <joint_properties friction="0.0"/>
    </joint>


</robot>
